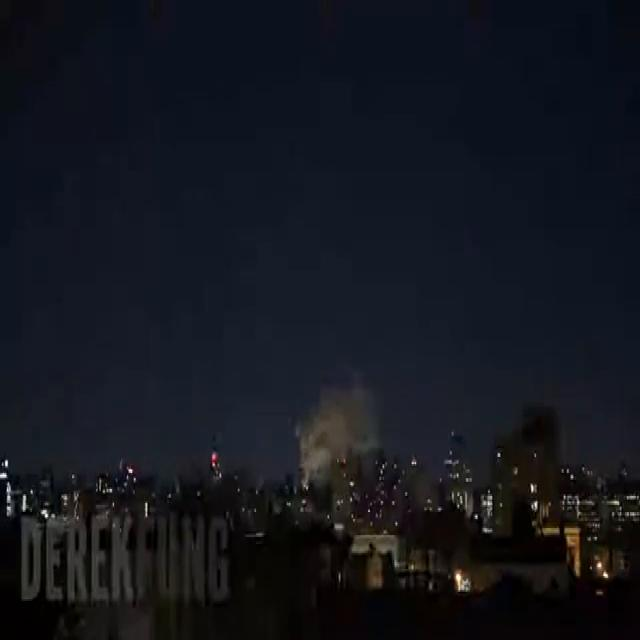smoke: (296, 372, 379, 485)
